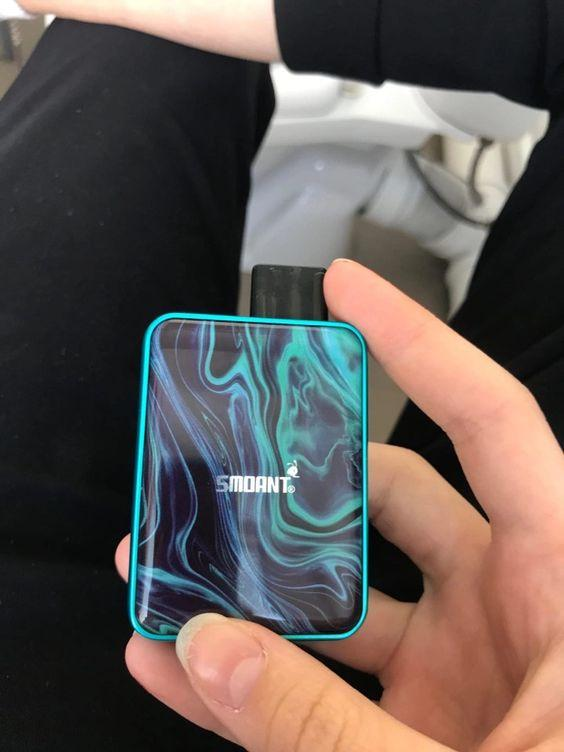Vape: (129, 269, 367, 641)
